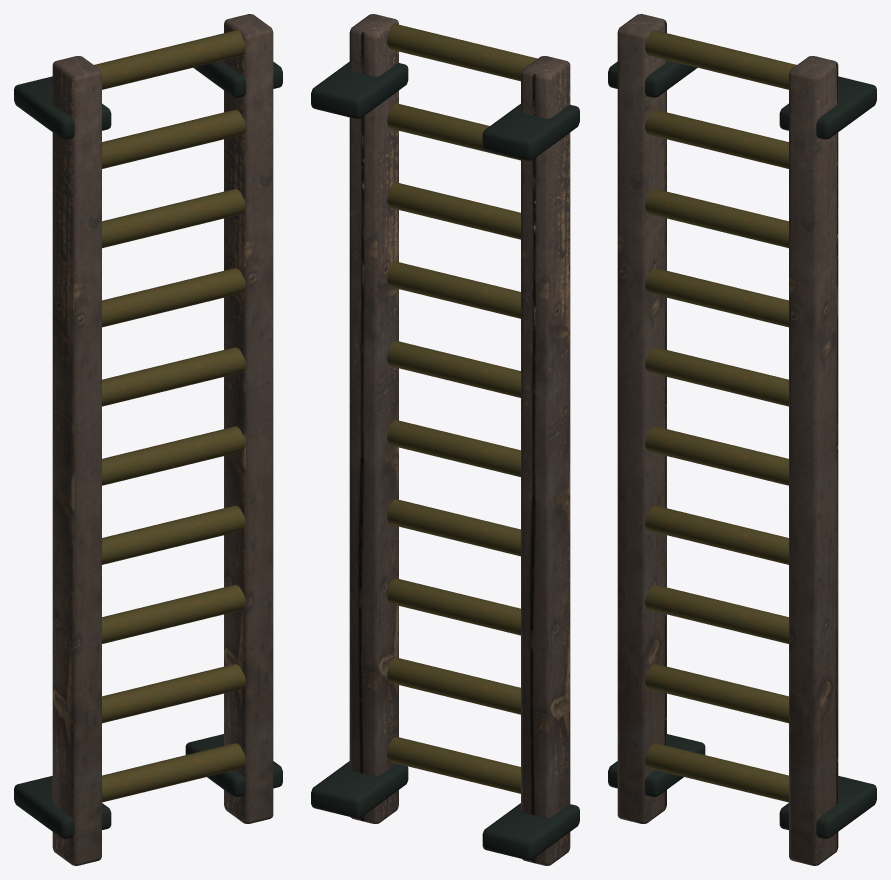
Rendered from ladder.glb.
The picture shows the model from 3 angles, left to right: view 1: azimuth 30°, elevation 25°; view 2: azimuth 150°, elevation 25°; view 3: azimuth 330°, elevation 25°; orthographic projection.
Visible parts, largest first — view 1: Wood rail, Wood rail.001, Worn rung.009, Worn rung.003, Worn rung, Worn rung.008, Worn rung.004, Worn rung.007, Worn rung.001, Worn rung.002, Worn rung.006, Worn rung.005 (+4 smaller); view 2: Wood rail, Wood rail.001, Worn rung.009, Worn rung.001, Worn rung.006, Worn rung.007, Worn rung.004, Worn rung.005, Worn rung, Worn rung.002, Worn rung.003, Wall bracket.003 (+4 smaller); view 3: Wood rail.001, Wood rail, Worn rung.009, Worn rung.003, Worn rung, Worn rung.008, Worn rung.004, Worn rung.007, Worn rung.001, Worn rung.002, Worn rung.006, Worn rung.005 (+4 smaller).
Part boxes in pixels (bbox=[...]): Wood rail: bbox=[52, 56, 101, 865]; Wood rail.001: bbox=[224, 14, 273, 823]; Worn rung.009: bbox=[94, 30, 245, 89]; Worn rung.003: bbox=[102, 505, 245, 564]; Worn rung: bbox=[102, 743, 245, 802]; Worn rung.008: bbox=[102, 109, 245, 168]; Worn rung.004: bbox=[102, 426, 245, 485]; Worn rung.007: bbox=[102, 189, 245, 248]; Worn rung.001: bbox=[102, 664, 245, 723]; Worn rung.002: bbox=[102, 584, 245, 643]; Worn rung.006: bbox=[102, 268, 245, 327]; Worn rung.005: bbox=[102, 347, 245, 406]; Wood rail: bbox=[521, 56, 570, 865]; Wood rail.001: bbox=[349, 14, 398, 823]; Worn rung.009: bbox=[387, 24, 537, 81]; Worn rung.001: bbox=[387, 657, 520, 714]; Worn rung.006: bbox=[387, 261, 520, 318]; Worn rung.007: bbox=[387, 182, 520, 239]; Worn rung.004: bbox=[387, 420, 520, 476]; Worn rung.005: bbox=[387, 341, 520, 397]; Worn rung: bbox=[387, 736, 520, 793]; Worn rung.002: bbox=[387, 578, 520, 635]; Worn rung.003: bbox=[387, 499, 520, 556]; Wall bracket.003: bbox=[311, 62, 408, 118]; Wood rail.001: bbox=[789, 56, 838, 865]; Wood rail: bbox=[617, 14, 666, 823]; Worn rung.009: bbox=[645, 30, 796, 89]; Worn rung.003: bbox=[645, 505, 788, 564]; Worn rung: bbox=[645, 743, 788, 802]; Worn rung.008: bbox=[645, 109, 788, 168]; Worn rung.004: bbox=[645, 426, 788, 485]; Worn rung.007: bbox=[645, 189, 788, 248]; Worn rung.001: bbox=[645, 664, 788, 723]; Worn rung.002: bbox=[645, 584, 788, 643]; Worn rung.006: bbox=[645, 268, 788, 327]; Worn rung.005: bbox=[645, 347, 788, 406].
Size of the model in its own units: 0.88 by 3 by 0.355.
3 materials, 3 textured.
